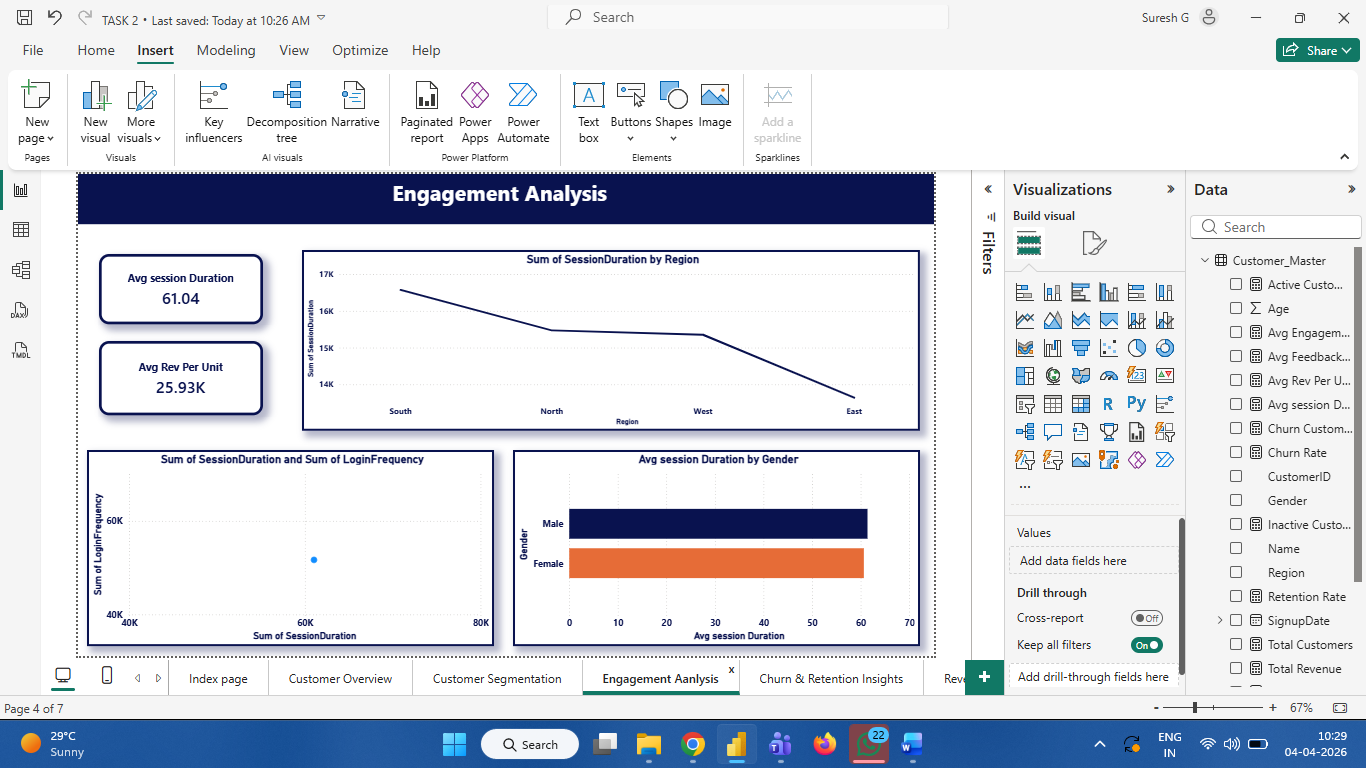

What the dashboard file says about the page in this screenshot:
{"tool":"powerbi","page":{"name":"Engagement Aanlysis","canvas":[1280,720],"ordinal":3},"visuals":[{"type":"textbox","box":[0,0,1280,75],"z":0},{"type":"scatterChart","fields":{"X":["Sum(Engagement.SessionDuration)"],"Y":["Sum(Engagement.LoginFrequency)"]},"box":[334.3,411.5,441.8,294],"z":1000},{"type":"lineChart","fields":{"Category":["Customer_Master.Region"],"Y":["Sum(Engagement.SessionDuration)"]},"box":[334.6,113.5,923.2,270.4],"z":2000},{"type":"clusteredBarChart","fields":{"Y":["Customer_Master.Avg session Duration"],"Category":["Customer_Master.Gender"]},"box":[796.2,411.5,461.9,294],"z":3000},{"type":"cardVisual","fields":{"Data":["Customer_Master.Avg session Duration"]},"box":[31.9,248.6,257,136.1],"z":4000},{"type":"cardVisual","fields":{"Data":["Customer_Master.Active Customers"]},"box":[31.9,411.5,257,134.4],"z":5000},{"type":"actionButton","box":[1157.7,16.4,100.1,40.3],"z":6000},{"type":"cardVisual","fields":{"Data":["Customer_Master.Avg Resolution Time"]},"box":[31.9,579.5,257,126],"z":7000},{"type":"cardVisual","fields":{"Data":["Customer_Master.Avg Engagement Score"]},"box":[31.9,99.1,257,136.1],"z":8000}]}

Visuals, with their boxes on the page's 1280x720 design canvas (x1, y1, x2, y2). These are canvas units, not pixel positions in the 1366x768 screenshot, which may show the page scaled, cropped or inside an application window:
textbox: BBox(0, 0, 1280, 75)
scatterChart - Sum(Engagement.SessionDuration) x Sum(Engagement.LoginFrequency): BBox(334, 412, 776, 706)
lineChart - Customer_Master.Region x Sum(Engagement.SessionDuration): BBox(335, 114, 1258, 384)
clusteredBarChart - Customer_Master.Avg session Duration x Customer_Master.Gender: BBox(796, 412, 1258, 706)
cardVisual - Customer_Master.Avg session Duration: BBox(32, 249, 289, 385)
cardVisual - Customer_Master.Active Customers: BBox(32, 412, 289, 546)
actionButton: BBox(1158, 16, 1258, 57)
cardVisual - Customer_Master.Avg Resolution Time: BBox(32, 580, 289, 706)
cardVisual - Customer_Master.Avg Engagement Score: BBox(32, 99, 289, 235)
